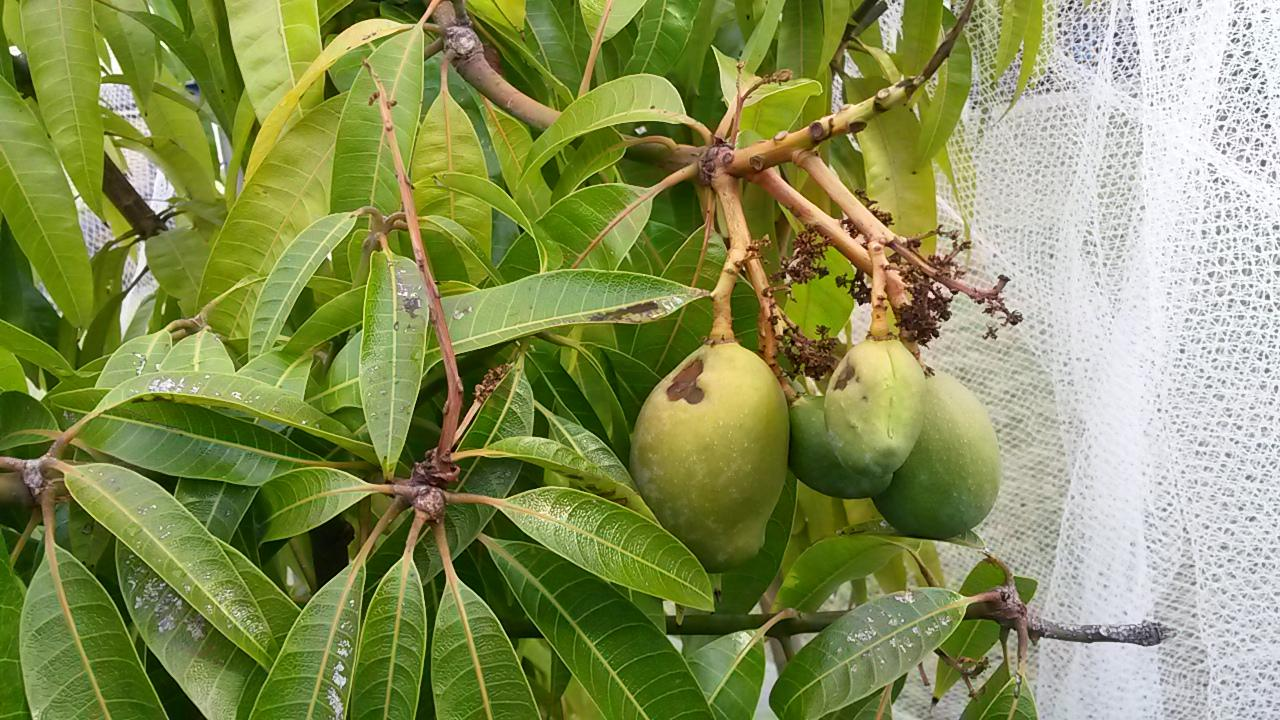mango: (620, 328, 794, 562)
